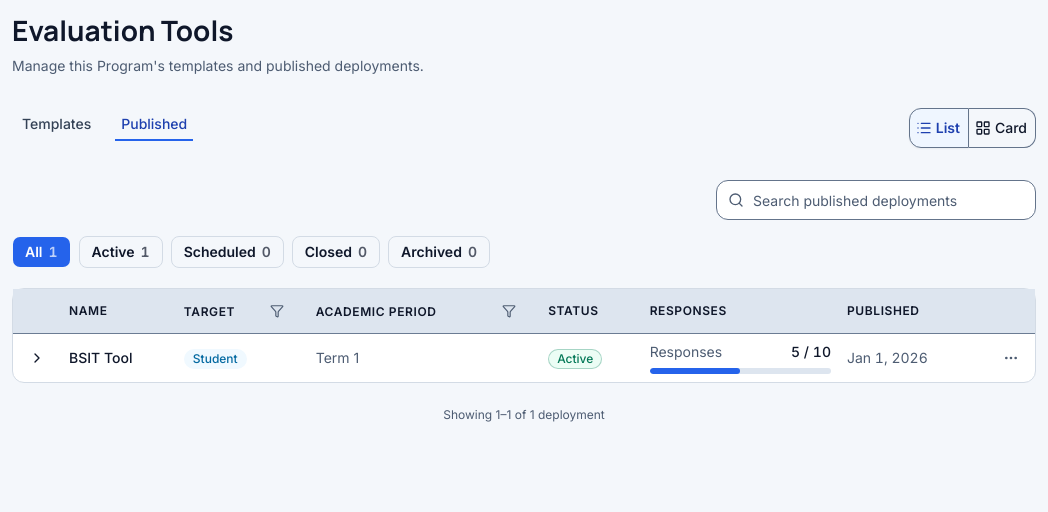
Test: ProgramHeadToolsPage › shows deployment details in the list-view accordion
What coordinates should you click on to do the following:
click the button named "Expand BSIT Tool"
I would click on:
 (37, 358)
Its box is [21,342,53,374].
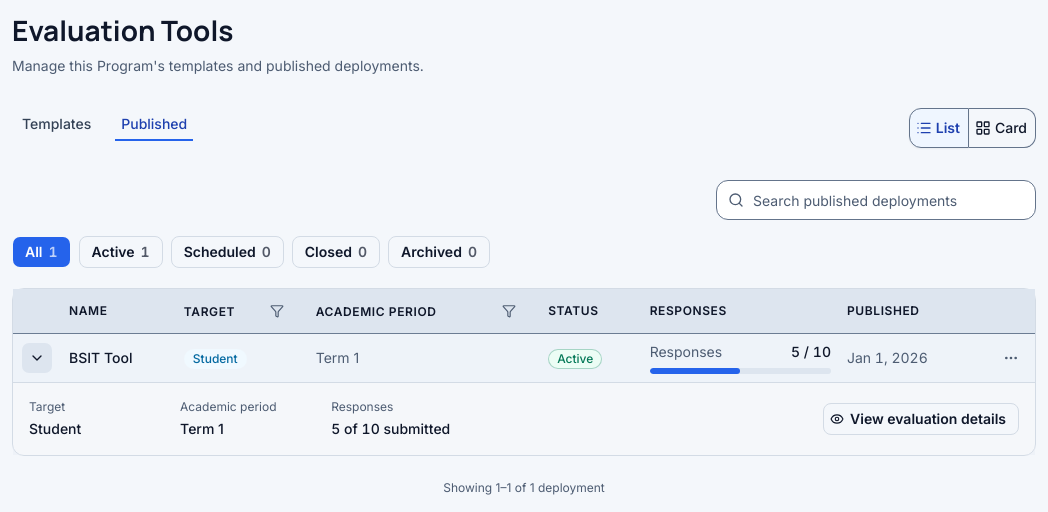
Now the text "5 of 10 submitted" is shown, box [331,419,450,439]
